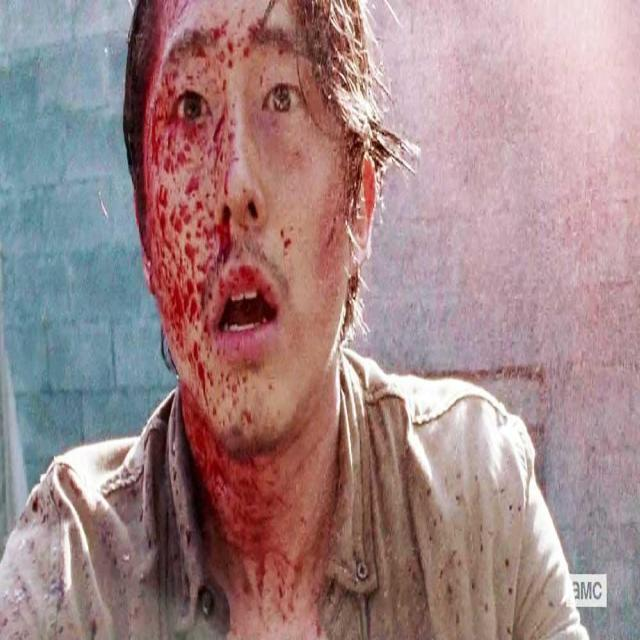flood: (134, 0, 235, 418)
